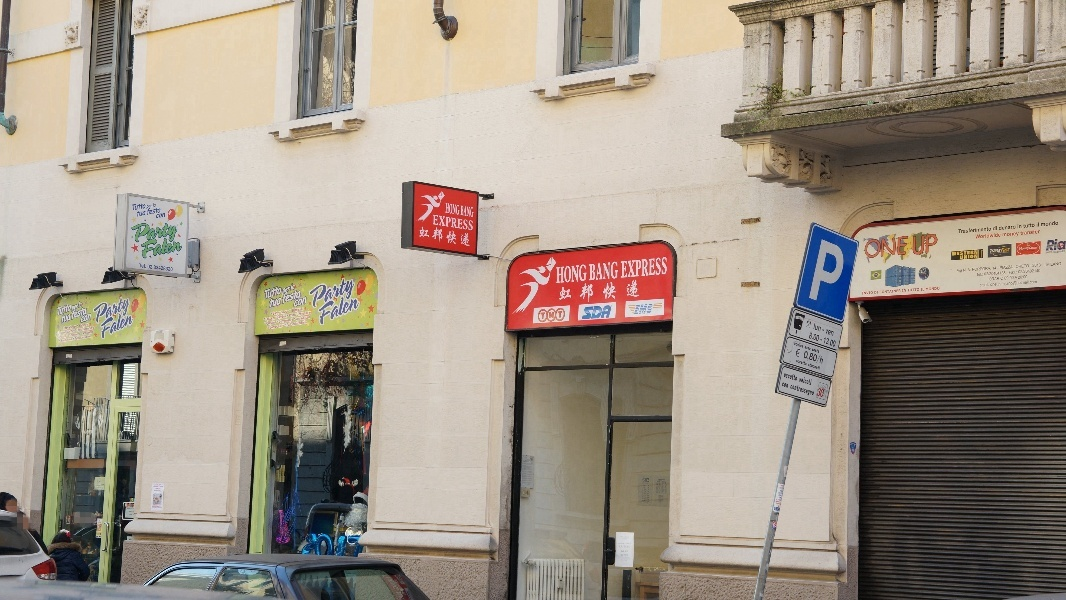text: (833, 239, 848, 305), (822, 239, 832, 305), (321, 290, 336, 327), (337, 290, 352, 327), (321, 275, 336, 309), (337, 275, 352, 309), (113, 309, 128, 342), (97, 295, 112, 326), (113, 295, 128, 326), (308, 275, 320, 309), (100, 309, 112, 342), (145, 234, 160, 260), (161, 234, 176, 260), (321, 533, 336, 558), (337, 533, 352, 558), (353, 290, 363, 327), (881, 236, 896, 260), (306, 533, 320, 558), (866, 236, 880, 260), (625, 257, 640, 279), (641, 257, 656, 279), (913, 234, 928, 256), (145, 222, 160, 244), (161, 222, 176, 244), (353, 533, 366, 558), (433, 226, 448, 247), (449, 226, 464, 247), (130, 222, 144, 244), (561, 264, 576, 284), (643, 482, 656, 505), (897, 236, 909, 260), (593, 262, 608, 281), (433, 214, 448, 232), (449, 214, 464, 232), (657, 257, 669, 279), (849, 239, 853, 305), (420, 226, 432, 247), (627, 279, 640, 298), (581, 282, 592, 304), (129, 309, 136, 342), (593, 305, 608, 320), (801, 382, 815, 398), (929, 234, 939, 256), (289, 289, 302, 305), (577, 264, 587, 284), (561, 286, 573, 302), (609, 262, 619, 281), (657, 478, 668, 495), (177, 234, 184, 260), (81, 313, 96, 324), (465, 214, 474, 232), (273, 285, 283, 301), (523, 456, 528, 487), (805, 351, 816, 365), (609, 281, 617, 300), (785, 372, 800, 382), (641, 304, 654, 315), (449, 203, 460, 216), (71, 306, 80, 321), (819, 388, 832, 398), (851, 443, 864, 453), (294, 296, 304, 309), (792, 382, 800, 398), (264, 285, 272, 301), (658, 495, 672, 504), (465, 226, 471, 247), (529, 456, 533, 487), (92, 295, 96, 326), (801, 376, 813, 386), (1047, 238, 1056, 251), (1057, 238, 1066, 251), (273, 296, 282, 309), (465, 205, 474, 218), (1025, 229, 1041, 236), (65, 303, 73, 317), (317, 290, 320, 327), (585, 305, 592, 320), (961, 227, 976, 234), (977, 227, 992, 234), (1009, 280, 1024, 287), (273, 309, 288, 316), (72, 300, 80, 313), (147, 208, 160, 216), (140, 234, 144, 260), (353, 275, 356, 309), (817, 351, 824, 365), (57, 303, 64, 317), (289, 282, 296, 296), (282, 289, 288, 305), (132, 203, 144, 211), (1041, 221, 1056, 227), (977, 233, 992, 239), (961, 250, 976, 256), (961, 254, 976, 260), (81, 306, 87, 321), (824, 337, 832, 348), (780, 485, 784, 506), (84, 429, 96, 436), (161, 265, 173, 272), (1025, 269, 1041, 274), (65, 312, 71, 325), (549, 312, 560, 319), (881, 289, 896, 294), (993, 226, 1008, 231), (977, 267, 992, 272), (65, 333, 80, 338), (65, 325, 77, 331), (292, 307, 304, 313), (279, 317, 288, 325), (273, 324, 285, 330), (81, 331, 95, 336), (283, 282, 288, 296), (621, 257, 624, 279), (1025, 223, 1036, 229), (81, 335, 92, 341), (277, 314, 288, 320), (177, 222, 180, 244), (993, 271, 1006, 276), (83, 326, 96, 331), (67, 354, 80, 359), (147, 205, 160, 210), (153, 485, 160, 494), (129, 295, 131, 326), (557, 264, 560, 284), (810, 332, 816, 342), (993, 266, 1008, 270), (1009, 271, 1024, 275), (273, 317, 288, 321), (289, 314, 304, 318), (148, 264, 160, 269), (605, 281, 608, 300), (809, 363, 816, 371), (805, 346, 816, 351), (1009, 232, 1020, 237), (1013, 264, 1024, 269), (999, 225, 1008, 231), (65, 338, 74, 344), (1025, 247, 1038, 251), (67, 330, 80, 334), (1046, 262, 1056, 267), (289, 322, 299, 327), (801, 359, 808, 366), (826, 329, 832, 337), (993, 233, 1001, 239), (952, 250, 960, 256), (980, 283, 992, 287), (129, 508, 135, 516), (296, 315, 304, 321), (609, 305, 612, 320), (817, 323, 822, 332), (977, 273, 992, 276), (81, 323, 90, 328), (636, 304, 640, 315), (833, 337, 837, 348), (929, 287, 940, 291), (993, 277, 1004, 281), (1009, 225, 1016, 231), (1002, 280, 1008, 287), (137, 211, 144, 217), (154, 265, 160, 272), (625, 543, 632, 549), (902, 289, 912, 293), (1000, 265, 1008, 270), (984, 271, 992, 276), (152, 504, 160, 509), (289, 317, 294, 325), (963, 269, 976, 272), (61, 312, 64, 325), (269, 296, 272, 309), (305, 296, 308, 309), (445, 203, 448, 216), (461, 205, 464, 218), (590, 262, 592, 281), (775, 507, 784, 511), (865, 291, 874, 295), (1057, 250, 1066, 254), (993, 283, 1002, 287), (305, 315, 311, 321), (618, 543, 624, 549), (795, 342, 800, 349), (969, 267, 976, 272), (1025, 280, 1030, 287), (57, 335, 64, 340), (297, 311, 304, 316), (153, 203, 160, 208), (161, 213, 166, 220), (993, 249, 1001, 253), (1016, 276, 1024, 280), (97, 485, 105, 489), (817, 363, 821, 371), (817, 332, 820, 342), (1018, 224, 1024, 229), (1002, 248, 1008, 253), (1046, 251, 1056, 254), (1018, 269, 1024, 274), (1018, 275, 1024, 280), (1030, 281, 1040, 284), (59, 338, 64, 344), (75, 335, 80, 341), (305, 311, 311, 316), (266, 321, 272, 326), (139, 263, 144, 269), (801, 342, 805, 349), (913, 288, 920, 292), (1020, 229, 1024, 236), (1033, 264, 1040, 268), (156, 213, 160, 220), (796, 359, 800, 366), (161, 485, 164, 494), (797, 349, 800, 358), (81, 300, 83, 313), (643, 479, 656, 481), (1003, 232, 1008, 237), (1025, 264, 1030, 269), (1057, 262, 1062, 267), (812, 348, 816, 354), (785, 382, 789, 388), (1009, 276, 1015, 280), (266, 317, 272, 321), (648, 479, 656, 482), (593, 282, 594, 304), (541, 313, 544, 320), (777, 508, 784, 511), (921, 288, 928, 291), (875, 291, 880, 295), (897, 289, 901, 294), (1009, 265, 1013, 270), (102, 484, 112, 486), (273, 321, 277, 326), (299, 321, 304, 325), (646, 479, 656, 481), (817, 348, 820, 354), (58, 332, 64, 335), (269, 324, 272, 330), (833, 329, 835, 337), (908, 288, 912, 292), (1020, 247, 1024, 251), (126, 508, 128, 516), (620, 536, 624, 540), (625, 536, 629, 540), (973, 267, 976, 272), (1025, 275, 1028, 280), (65, 335, 68, 340), (545, 313, 547, 320), (558, 311, 560, 318), (561, 311, 563, 318), (958, 227, 960, 234), (1037, 223, 1040, 227), (1057, 221, 1059, 227), (957, 269, 960, 273), (989, 277, 992, 281), (1005, 276, 1008, 280), (77, 329, 80, 333), (625, 550, 629, 553), (625, 554, 629, 557), (799, 376, 800, 386), (1009, 248, 1011, 253), (815, 323, 816, 332), (1053, 251, 1056, 254), (621, 554, 624, 557), (926, 287, 928, 291), (990, 249, 992, 253), (961, 269, 963, 273), (1041, 264, 1043, 268), (81, 329, 83, 333), (302, 321, 304, 325), (305, 321, 307, 325), (145, 203, 146, 211), (783, 382, 784, 388), (1023, 223, 1024, 229), (975, 233, 976, 239), (977, 250, 978, 256), (977, 254, 978, 260), (65, 331, 67, 334), (145, 211, 146, 217), (145, 263, 146, 269), (622, 550, 624, 553), (621, 560, 624, 562), (625, 560, 628, 562), (161, 504, 162, 509), (79, 323, 80, 328), (287, 322, 288, 327), (863, 291, 864, 295), (991, 283, 992, 287)
